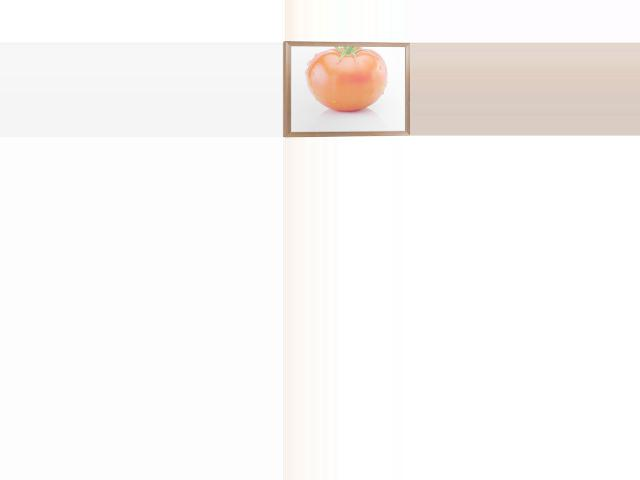tomato: (305, 46, 386, 112)
